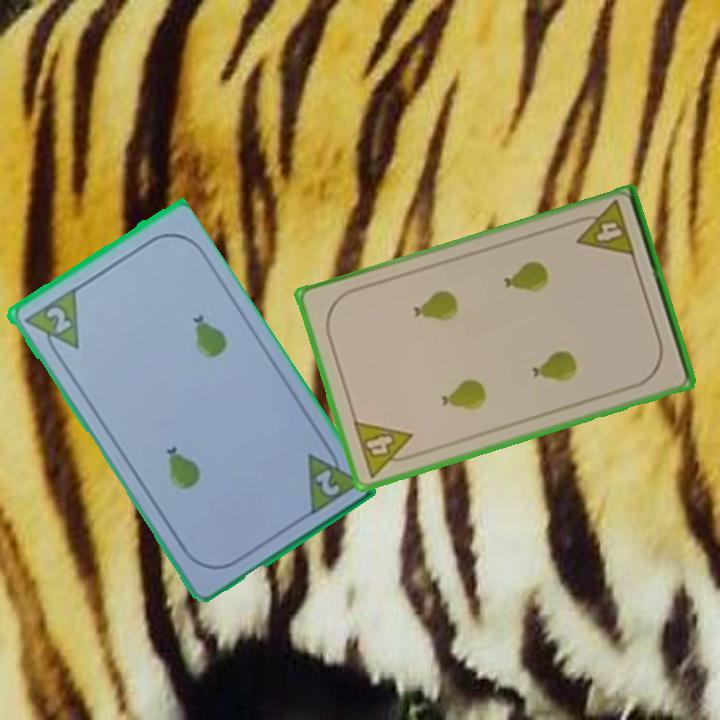2p: (303, 439, 361, 519), (41, 302, 74, 336)
4p: (349, 417, 421, 480), (568, 197, 638, 261)
